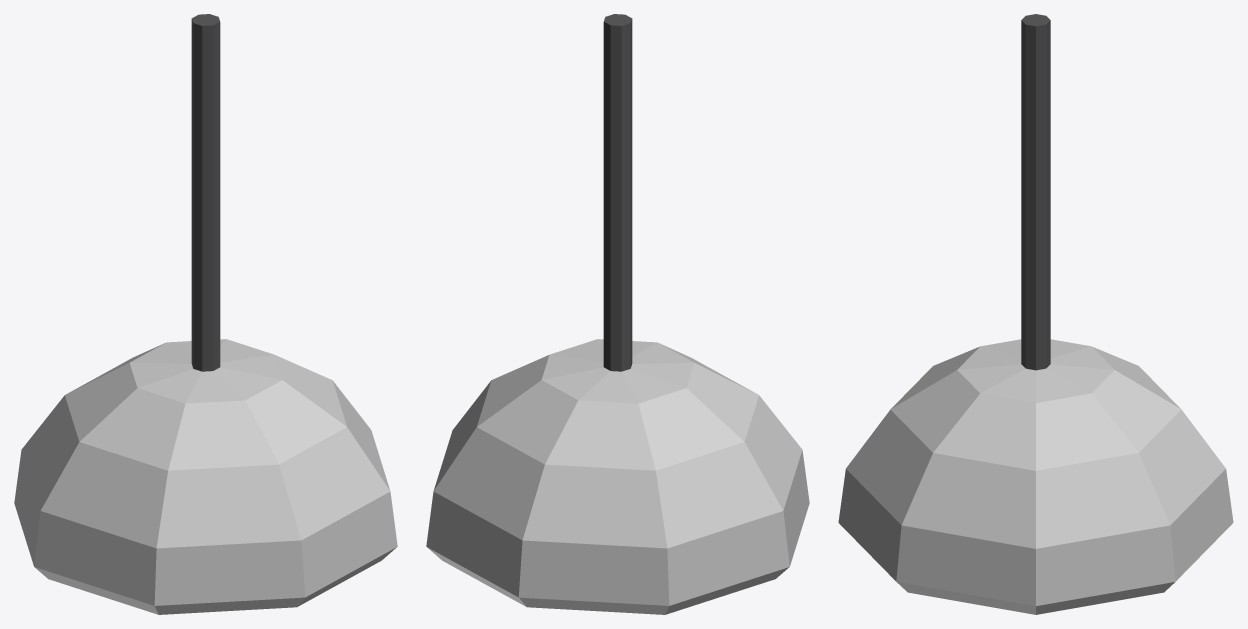
File: Celling_light.fbx
3 renders of one model, left to right at view 1: azimuth 30°, elevation 25°; view 2: azimuth 150°, elevation 25°; view 3: azimuth 270°, elevation 25°, orthographic.
Visible parts, largest first — view 1: pSphere3; view 2: pSphere3; view 3: pSphere3.
Boxes of the visible parts, box(x1,y1,x2,y2) form: pSphere3: box(14, 14, 397, 614); pSphere3: box(426, 14, 809, 614); pSphere3: box(838, 14, 1233, 614).
Size of the model in its own units: 29.87 by 44.35 by 29.87.
